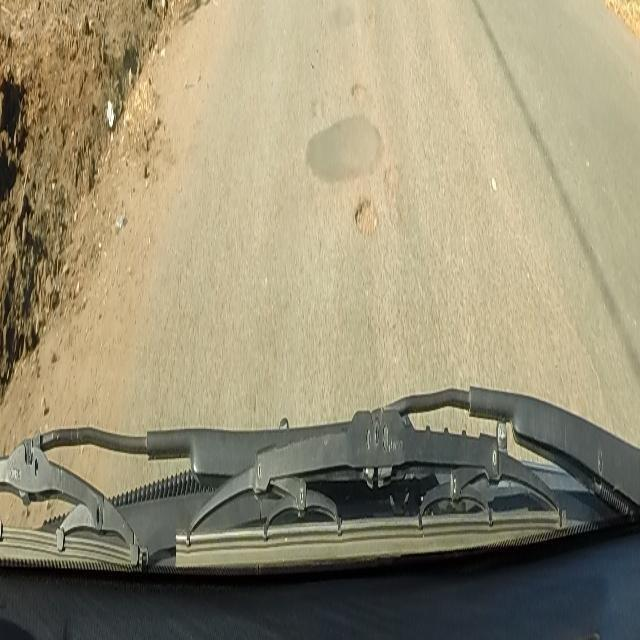pothole: (353, 188, 380, 242), (352, 80, 368, 109)
